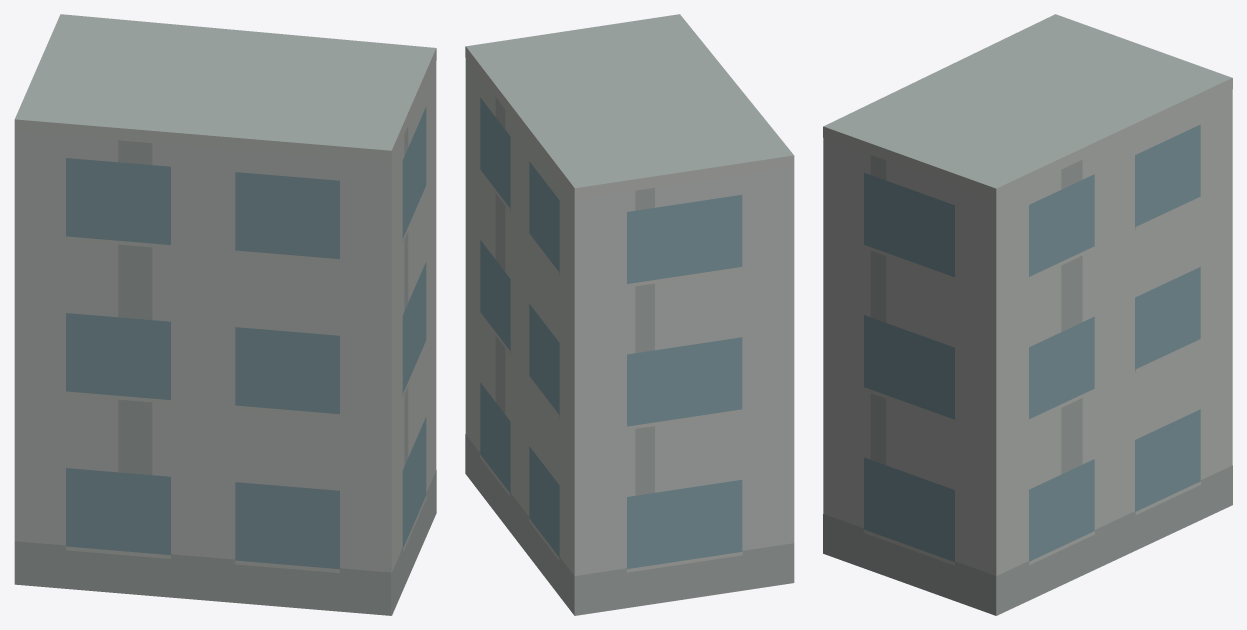
The model's file is survey-upis-32648325.glb.
The picture shows the model from 3 angles, left to right: view 1: azimuth 30°, elevation 25°; view 2: azimuth 150°, elevation 25°; view 3: azimuth 270°, elevation 25°; orthographic projection. The views are drawn at different scales.
Parts seen in each view (by area): view 1: survey-upis-32648325.tmp; view 2: survey-upis-32648325.tmp; view 3: survey-upis-32648325.tmp.
Boxes of the visible parts, x1,y1,x2,y2 form: survey-upis-32648325.tmp: (14,14,436,615); survey-upis-32648325.tmp: (465,14,794,615); survey-upis-32648325.tmp: (823,14,1232,615).
Bounding box in the file's own units: 8.03 × 9.15 × 7.95.
